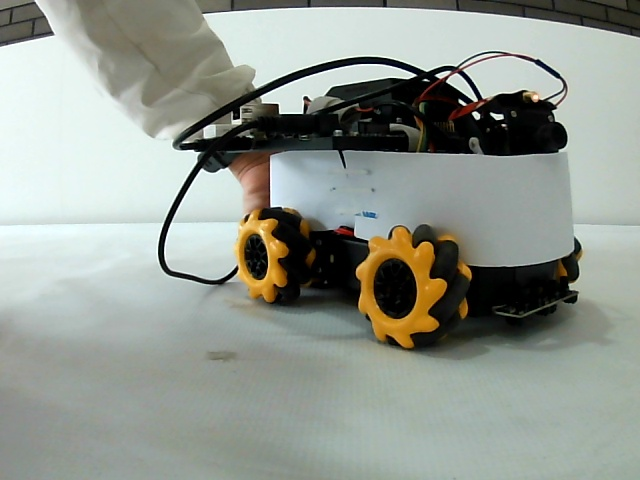car: (216, 74, 585, 343)
paper: (269, 151, 571, 238)
